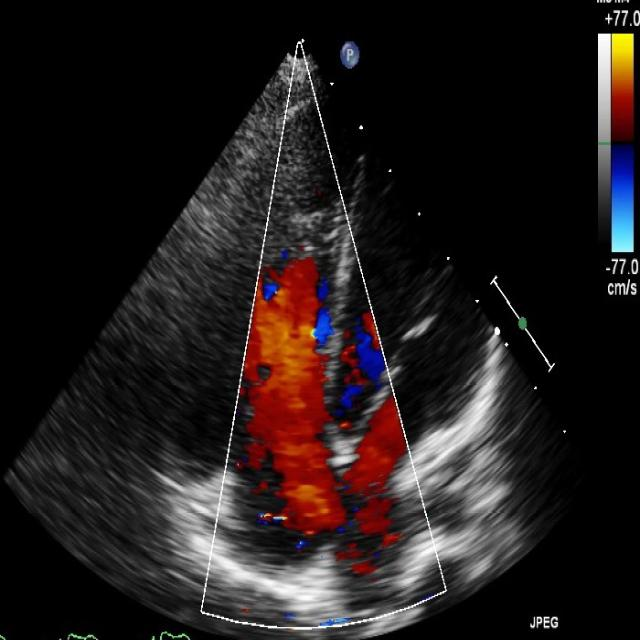ASDType2: (238, 396, 408, 578)
